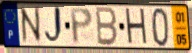0: (151, 7, 170, 49)
B: (95, 6, 119, 48)
H: (124, 7, 150, 47)
J: (43, 5, 65, 47)
N: (18, 5, 44, 45)
P: (69, 7, 94, 47)
